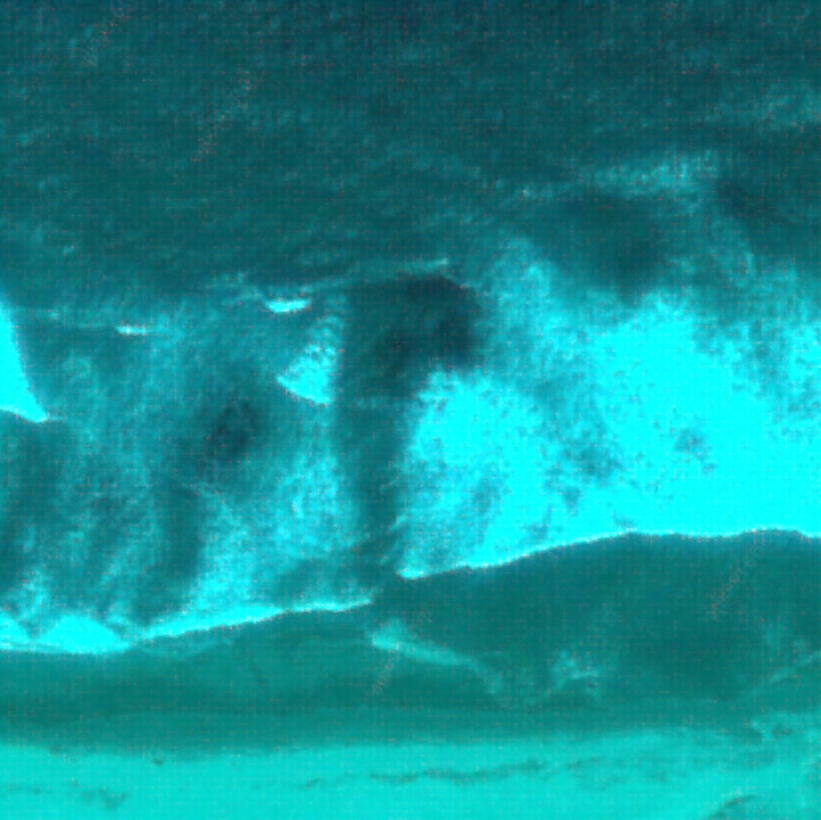rip_current: (264, 198, 511, 595)
